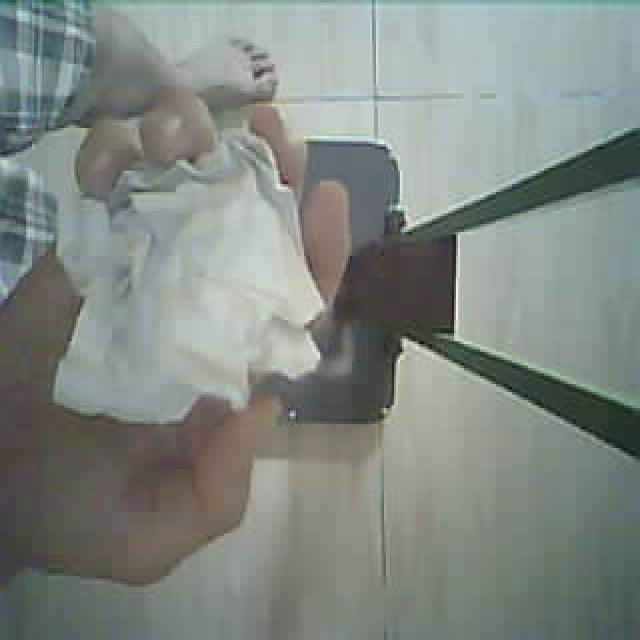Paper: (50, 143, 307, 413)
